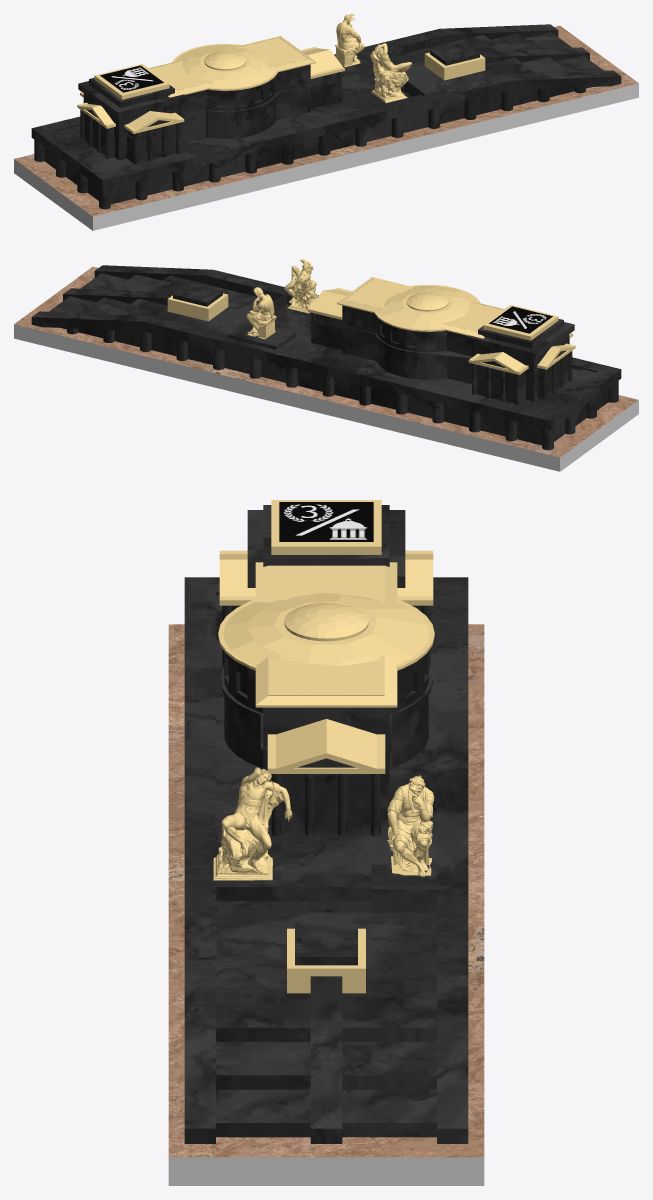
Rendered from buildingPanteon.glb.
The picture shows the model from 3 angles, top to bottom: view 1: azimuth 30°, elevation 25°; view 2: azimuth 150°, elevation 25°; view 3: azimuth 270°, elevation 25°; orthographic projection. The views are drawn at different scales.
Parts seen in each view (by area): view 1: Panteon; view 2: Panteon; view 3: Panteon.
Boxes of the visible parts, left/top/right/bottom form: Panteon: left=14, top=14, right=638, bottom=230; Panteon: left=14, top=259, right=638, bottom=471; Panteon: left=168, top=500, right=484, bottom=1185.
Size of the model in its own units: 8 by 1.45 by 2.
Materials: 5 (3 with a texture image).
